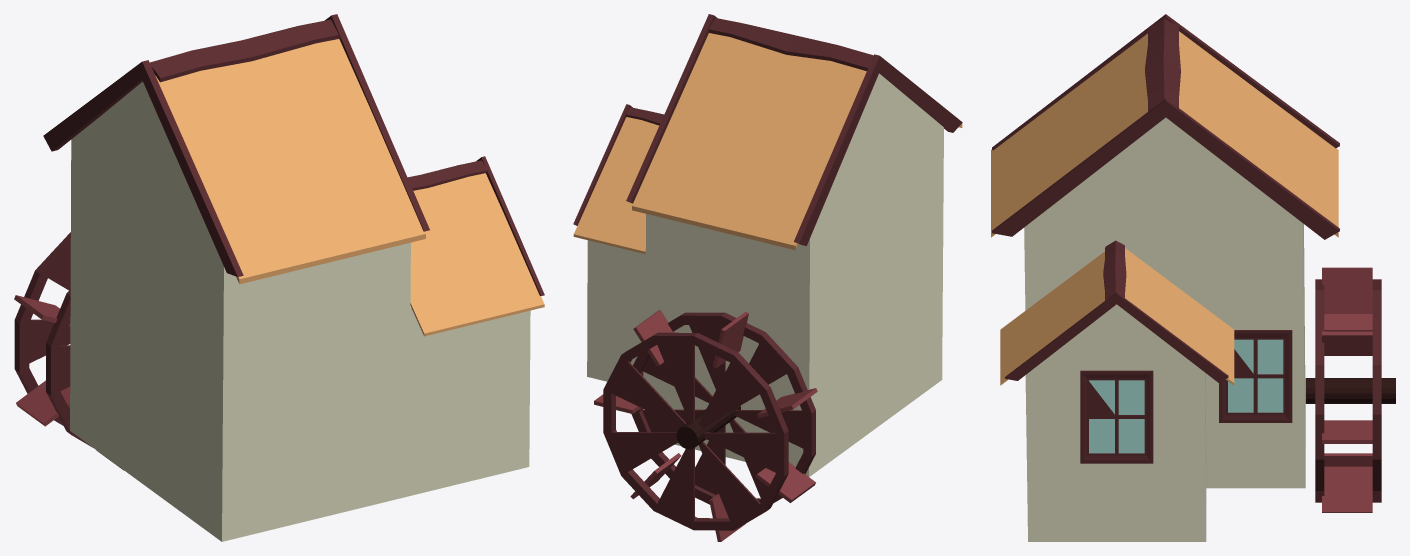
File: watermolen_Huis.fbx
3 renders of one model, left to right at view 1: azimuth 30°, elevation 25°; view 2: azimuth 150°, elevation 25°; view 3: azimuth 270°, elevation 25°, orthographic. The views are drawn at different scales.
Parts seen in each view (by area): view 1: Cube.003, Cube.001, Plane.005, Circle, Cube.002, Circle.001, Cube, Plane.002; view 2: Cube.003, Circle, Cube.001, Plane.005, Circle.001, Cube.002, Circle.002, Plane.002; view 3: Cube.003, Cube.001, Plane.006, Plane.005, Circle.001, Circle, Plane.002, Cube.002, Circle.002, Cube.
Part boxes in pixels (bbox=[...]): Cube.003: bbox=[70, 39, 425, 541]; Cube.001: bbox=[409, 173, 544, 496]; Plane.005: bbox=[43, 14, 429, 276]; Circle: bbox=[14, 232, 92, 447]; Cube.002: bbox=[150, 19, 340, 82]; Circle.001: bbox=[14, 295, 123, 470]; Cube: bbox=[407, 160, 488, 190]; Plane.002: bbox=[476, 156, 544, 295]; Cube.003: bbox=[632, 33, 962, 476]; Circle: bbox=[603, 312, 815, 530]; Cube.001: bbox=[573, 117, 658, 381]; Plane.005: bbox=[626, 14, 962, 245]; Circle.001: bbox=[594, 310, 817, 541]; Cube.002: bbox=[708, 18, 873, 71]; Circle.002: bbox=[676, 406, 740, 449]; Plane.002: bbox=[573, 104, 632, 225]; Cube.003: bbox=[991, 31, 1338, 488]; Cube.001: bbox=[1000, 248, 1234, 541]; Plane.006: bbox=[1080, 330, 1292, 463]; Plane.005: bbox=[992, 14, 1339, 239]; Circle.001: bbox=[1322, 267, 1372, 512]; Circle: bbox=[1315, 279, 1381, 502]; Plane.002: bbox=[1005, 292, 1228, 382]; Cube.002: bbox=[1145, 19, 1180, 111]; Circle.002: bbox=[1305, 378, 1395, 403]; Cube: bbox=[1103, 240, 1126, 300].
Bounding box in the file's own units: 554 × 782 × 642.
